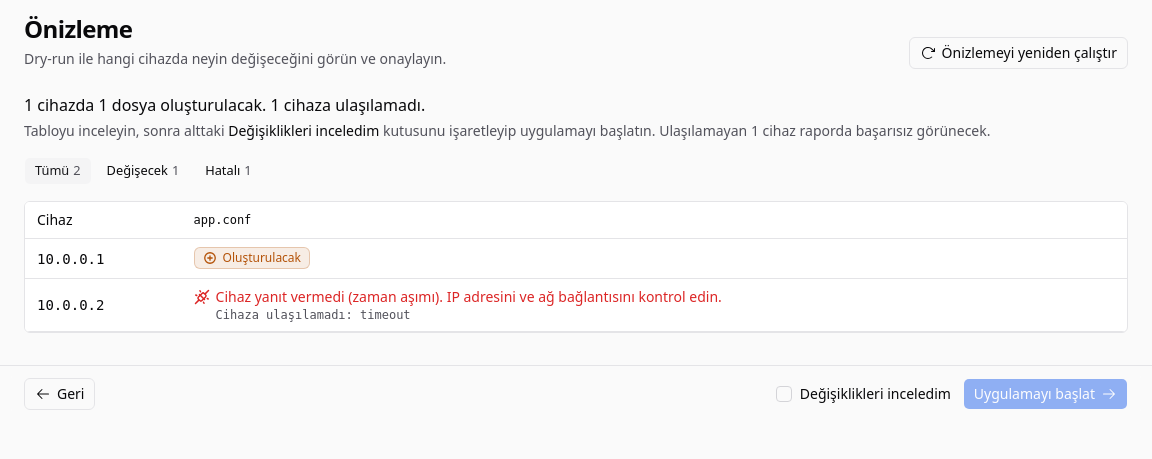
Scenario: PreviewStep › handles a 409 on apply: toast, stale warning, checkbox reset and disabled
What coordinates should you click on to do the following:
click the checkbox named "Değişiklikleri inceledim"
I would click on:
 (784, 394)
Its box is [776,386,792,402].
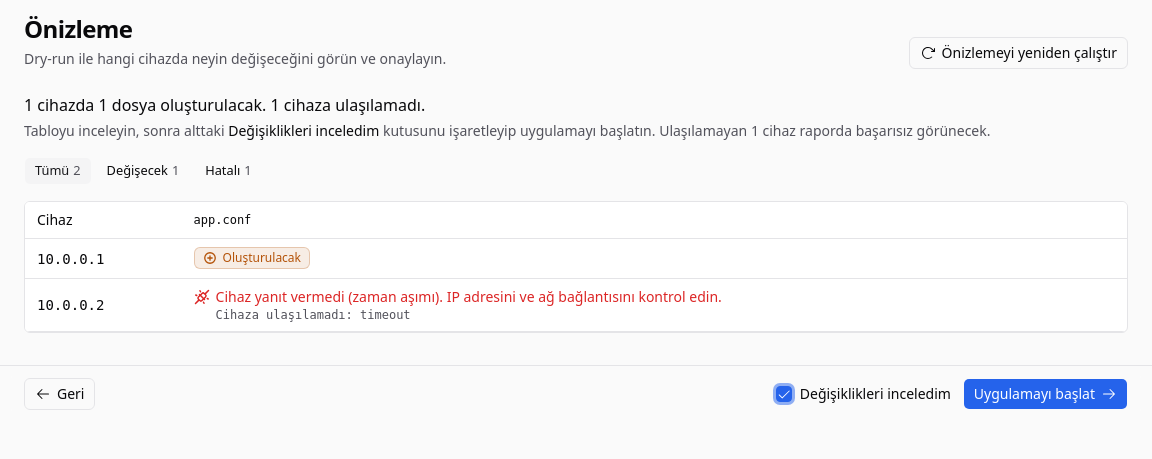
What coordinates should you click on to do the following:
click the button "Uygulamayı başlat"
I would click on:
 (1045, 394)
Its box is [963,378,1128,410].
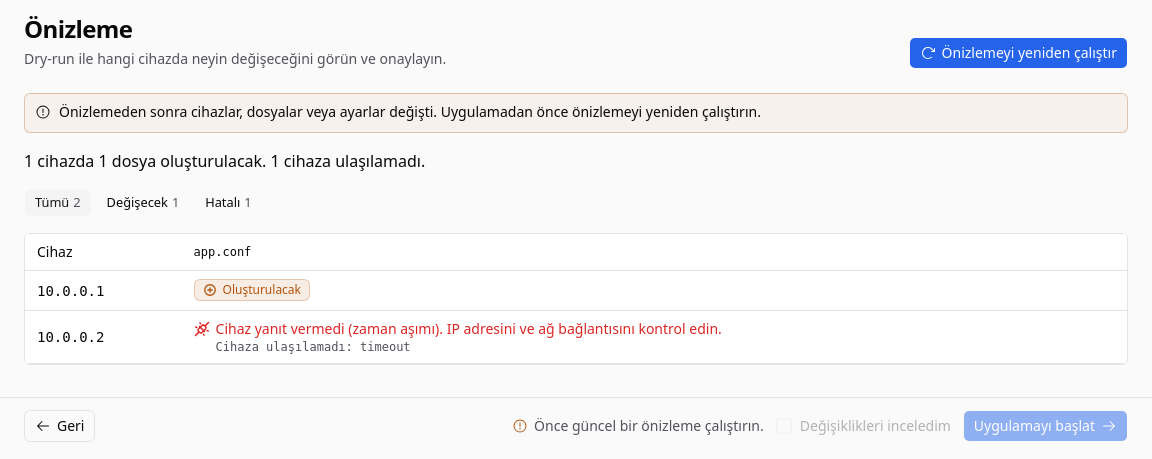
Now the text "Önizlemeden sonra cihazlar, dosyalar veya ayarlar değişti" is shown, box [59,102,761,121]
